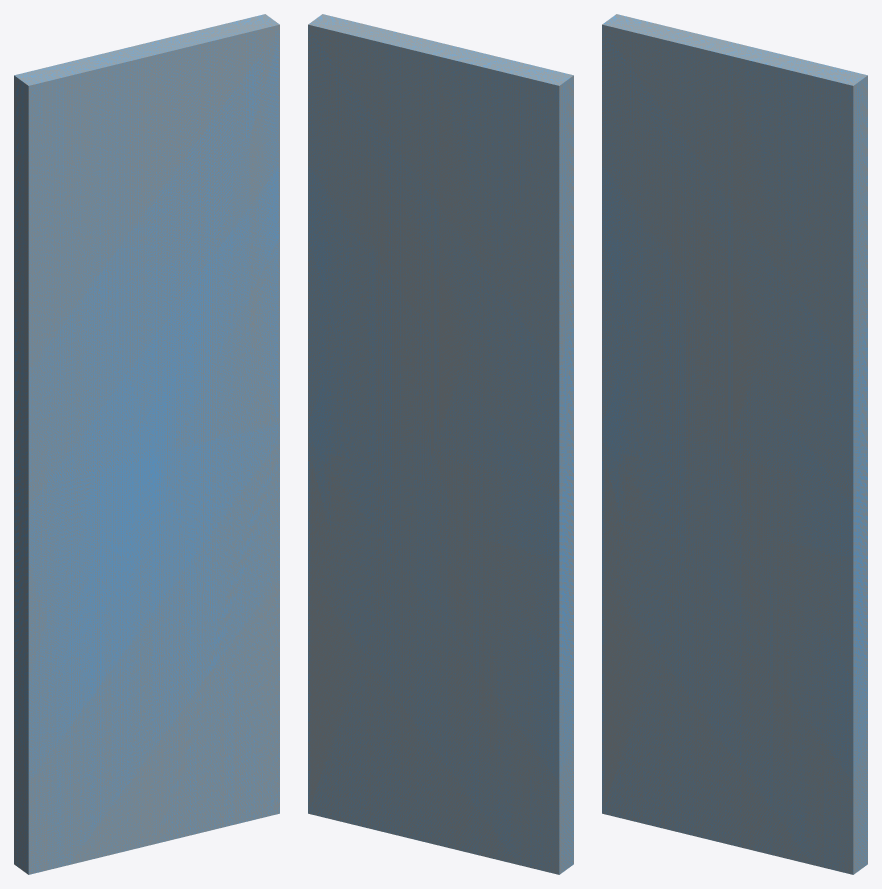
The model's file is Wall.fbx.
3 views of the same model, side by side, from view 1: azimuth 30°, elevation 25°; view 2: azimuth 150°, elevation 25°; view 3: azimuth 330°, elevation 25° (orthographic).
Visible parts, largest first — view 1: Model; view 2: Model; view 3: Model.
Part boxes in pixels (x1,y1,x2,y2): Model: (14,14,279,874); Model: (308,14,573,874); Model: (602,14,867,874).
Bounding box in the file's own units: 120 × 360 × 12.
